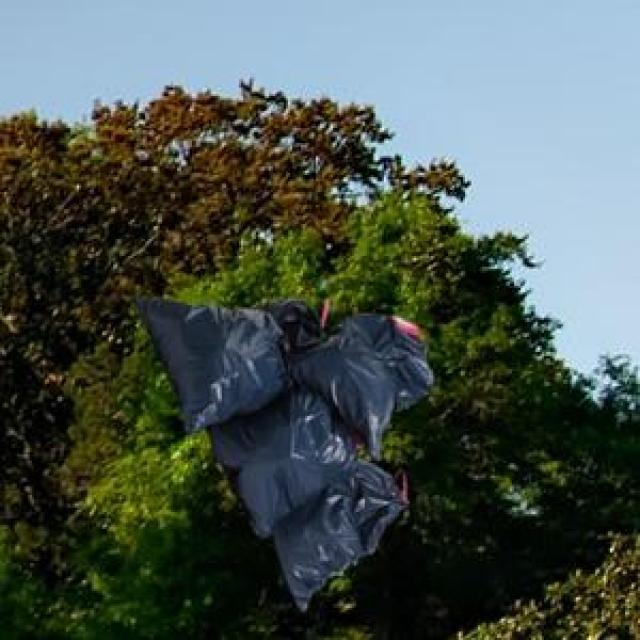Vinyl: (210, 385, 360, 531), (278, 462, 411, 614), (292, 314, 438, 450), (143, 298, 293, 426)
